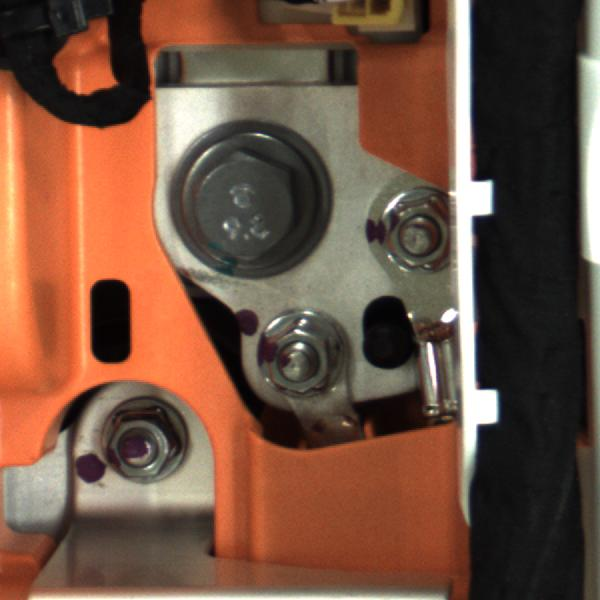nut_b: (159, 114, 338, 276)
screw_s: (244, 299, 361, 409), (98, 400, 200, 488), (381, 190, 458, 286)
